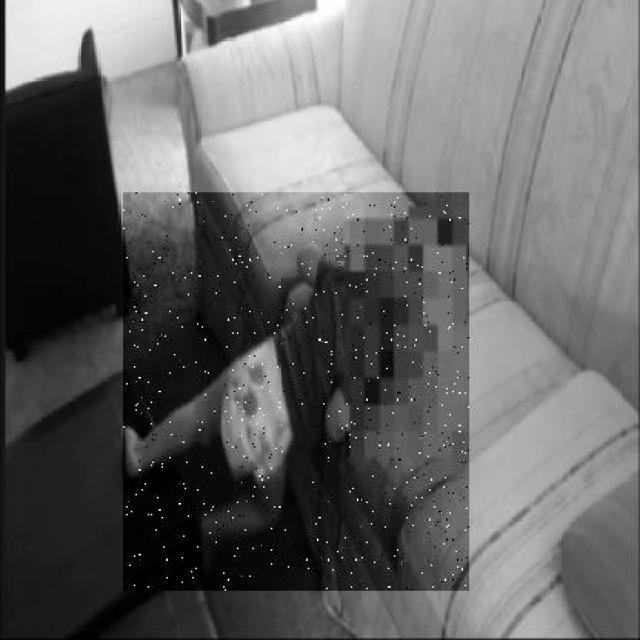child: (123, 192, 469, 590)
